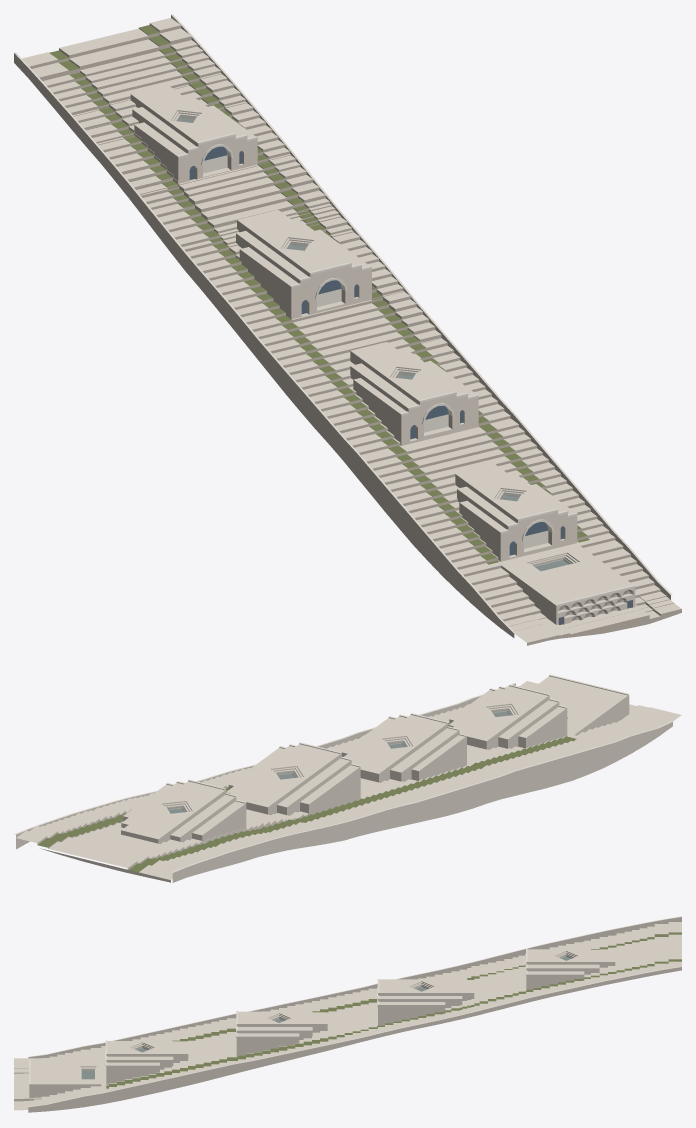
Rendered from yerevan-cascade.glb.
3 renders of one model, top to bottom at view 1: azimuth 30°, elevation 25°; view 2: azimuth 150°, elevation 25°; view 3: azimuth 270°, elevation 25°, orthographic. The views are drawn at different scales.
Parts seen in each view (by area): view 1: The Cascade; view 2: The Cascade; view 3: The Cascade.
Part boxes in pixels (x1=…): The Cascade: x1=14, y1=14, x2=681, y2=645; The Cascade: x1=14, y1=674, x2=681, y2=882; The Cascade: x1=14, y1=916, x2=681, y2=1112.
Size of the model in its own units: 50.7 by 69.38 by 283.
